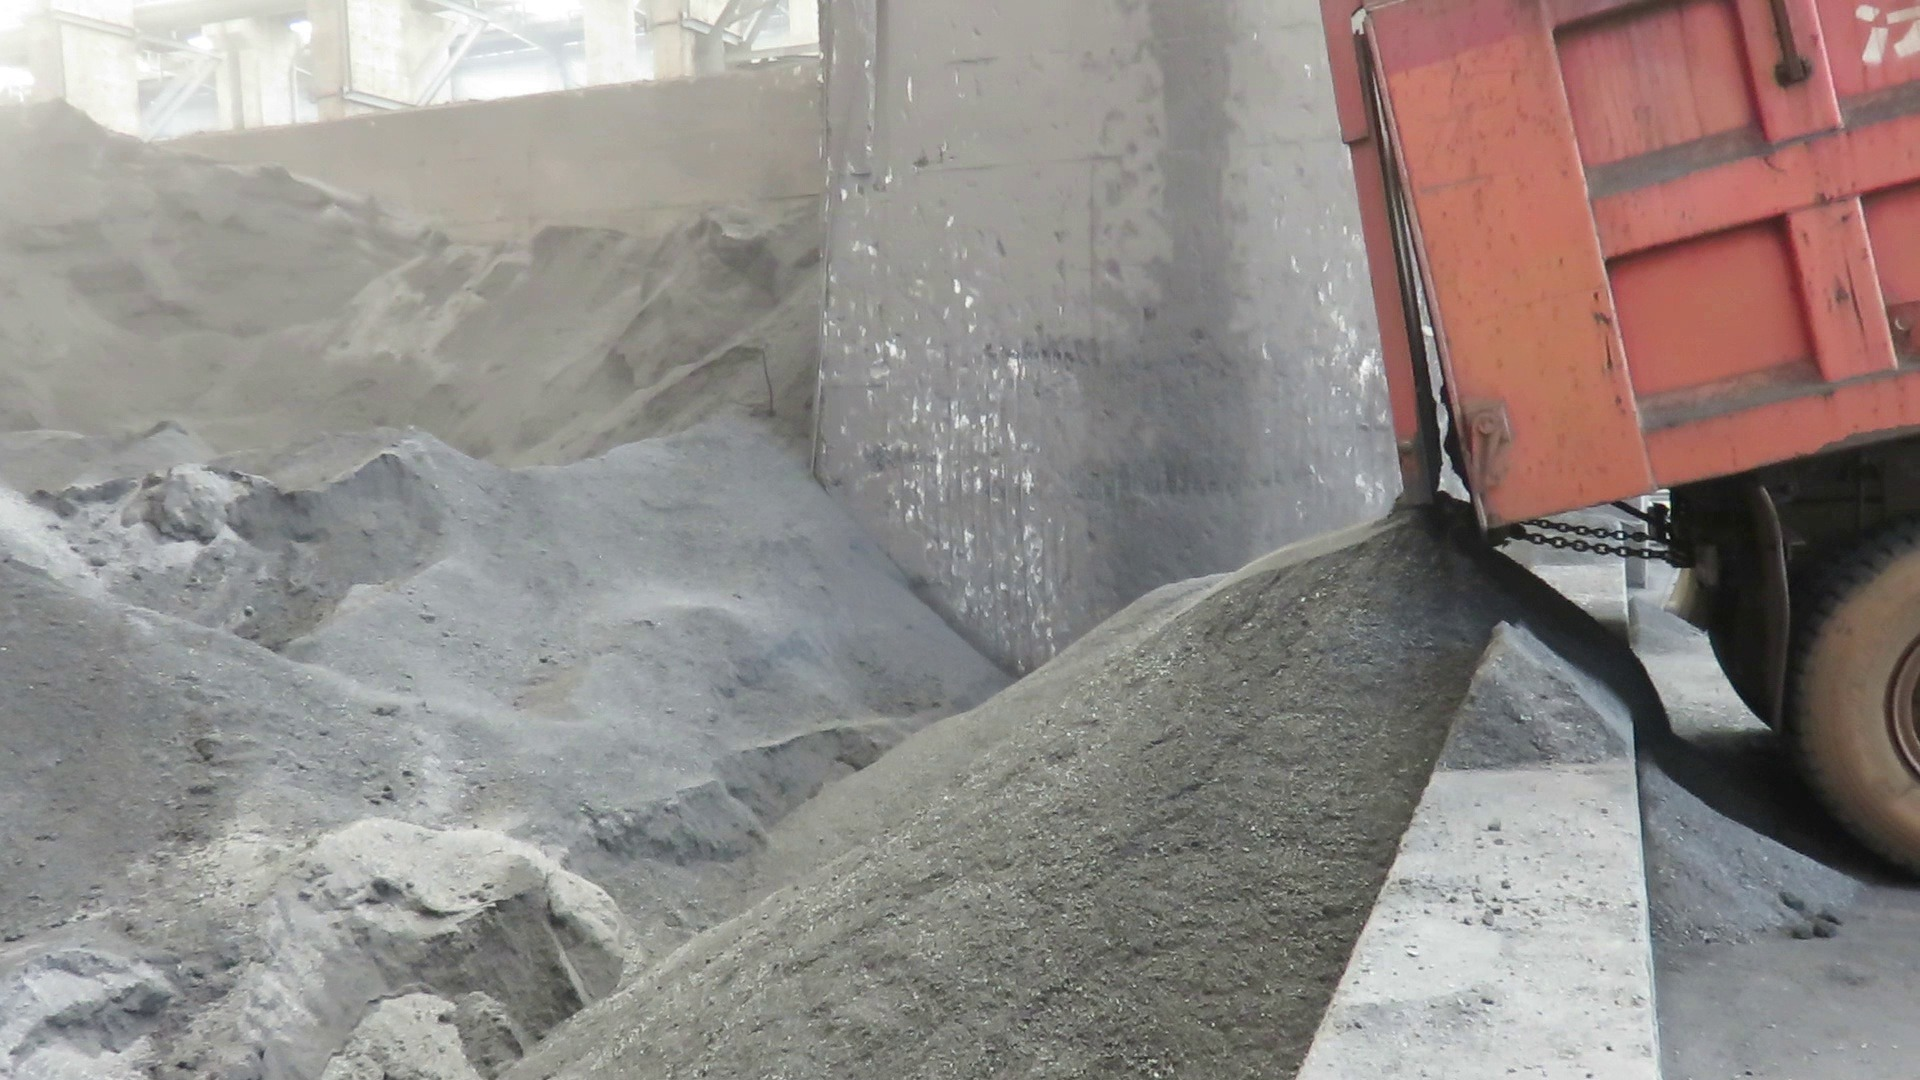dust: (1176, 59, 1394, 516)
truck: (1312, 0, 1920, 891)
